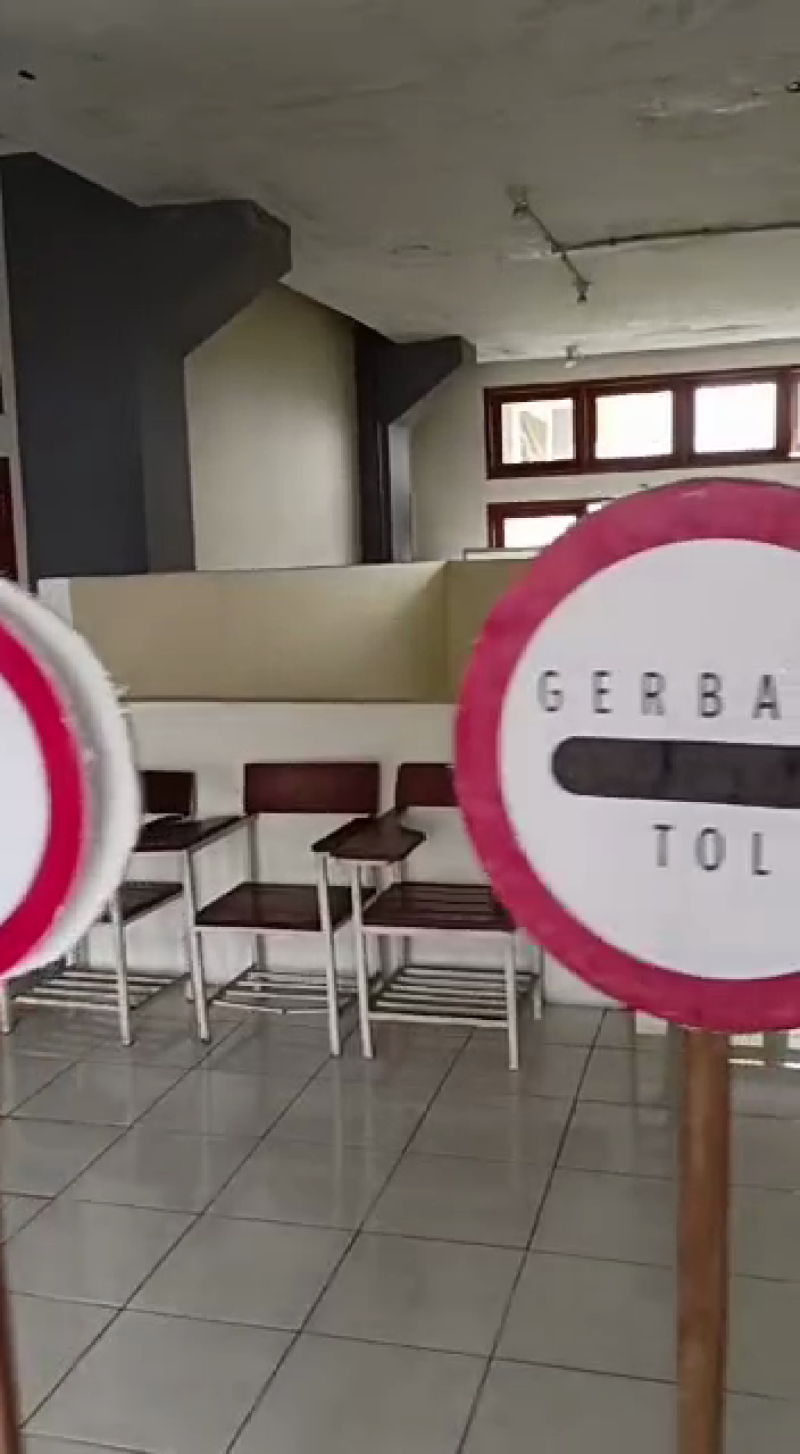gerbang tol: (442, 464, 800, 1051)
